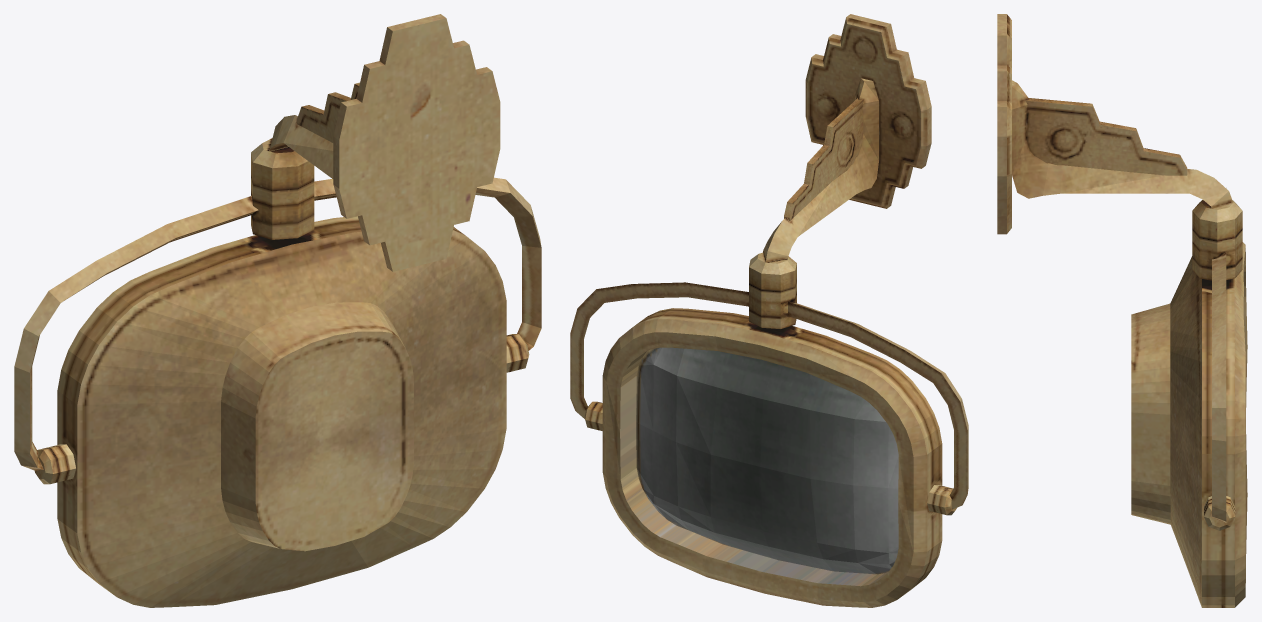
Rendered from WallTV.obj.
The picture shows the model from 3 angles, left to right: view 1: azimuth 30°, elevation 25°; view 2: azimuth 150°, elevation 25°; view 3: azimuth 270°, elevation 25°; orthographic projection. The views are drawn at different scales.
Parts seen in each view (by area): view 1: Wand_TV; view 2: Wand_TV; view 3: Wand_TV.
Boxes of the visible parts, box(x1,y1,x2,y2) form: Wand_TV: box(14, 14, 541, 607); Wand_TV: box(570, 14, 968, 607); Wand_TV: box(997, 14, 1247, 607).
Bounding box in the file's own units: 103 × 122 × 51.36.
